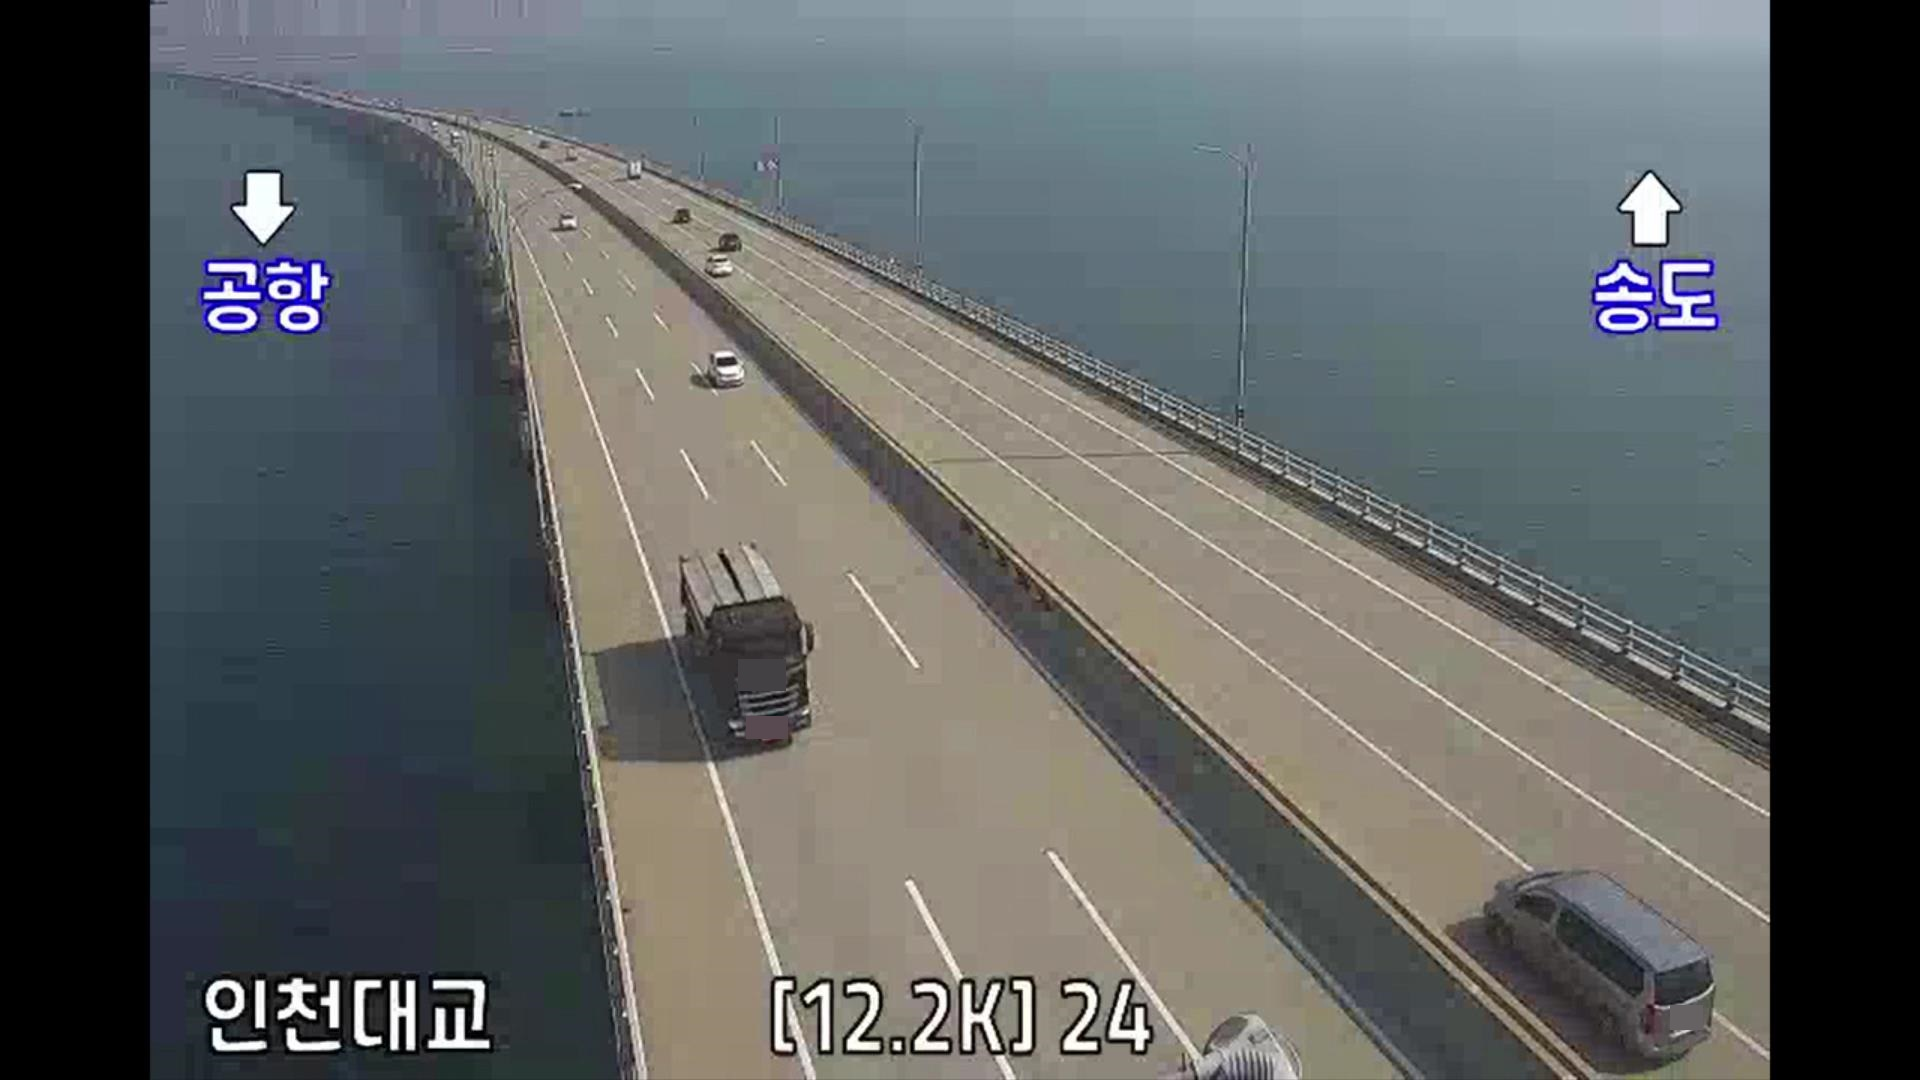정상차량: (679, 539, 815, 741)
